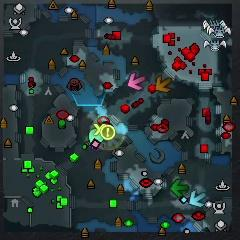p2: (87, 127, 107, 149)
x1: (127, 72, 145, 91)
x3: (189, 191, 207, 208)
x4: (170, 178, 191, 196)
x5: (155, 75, 172, 94)
